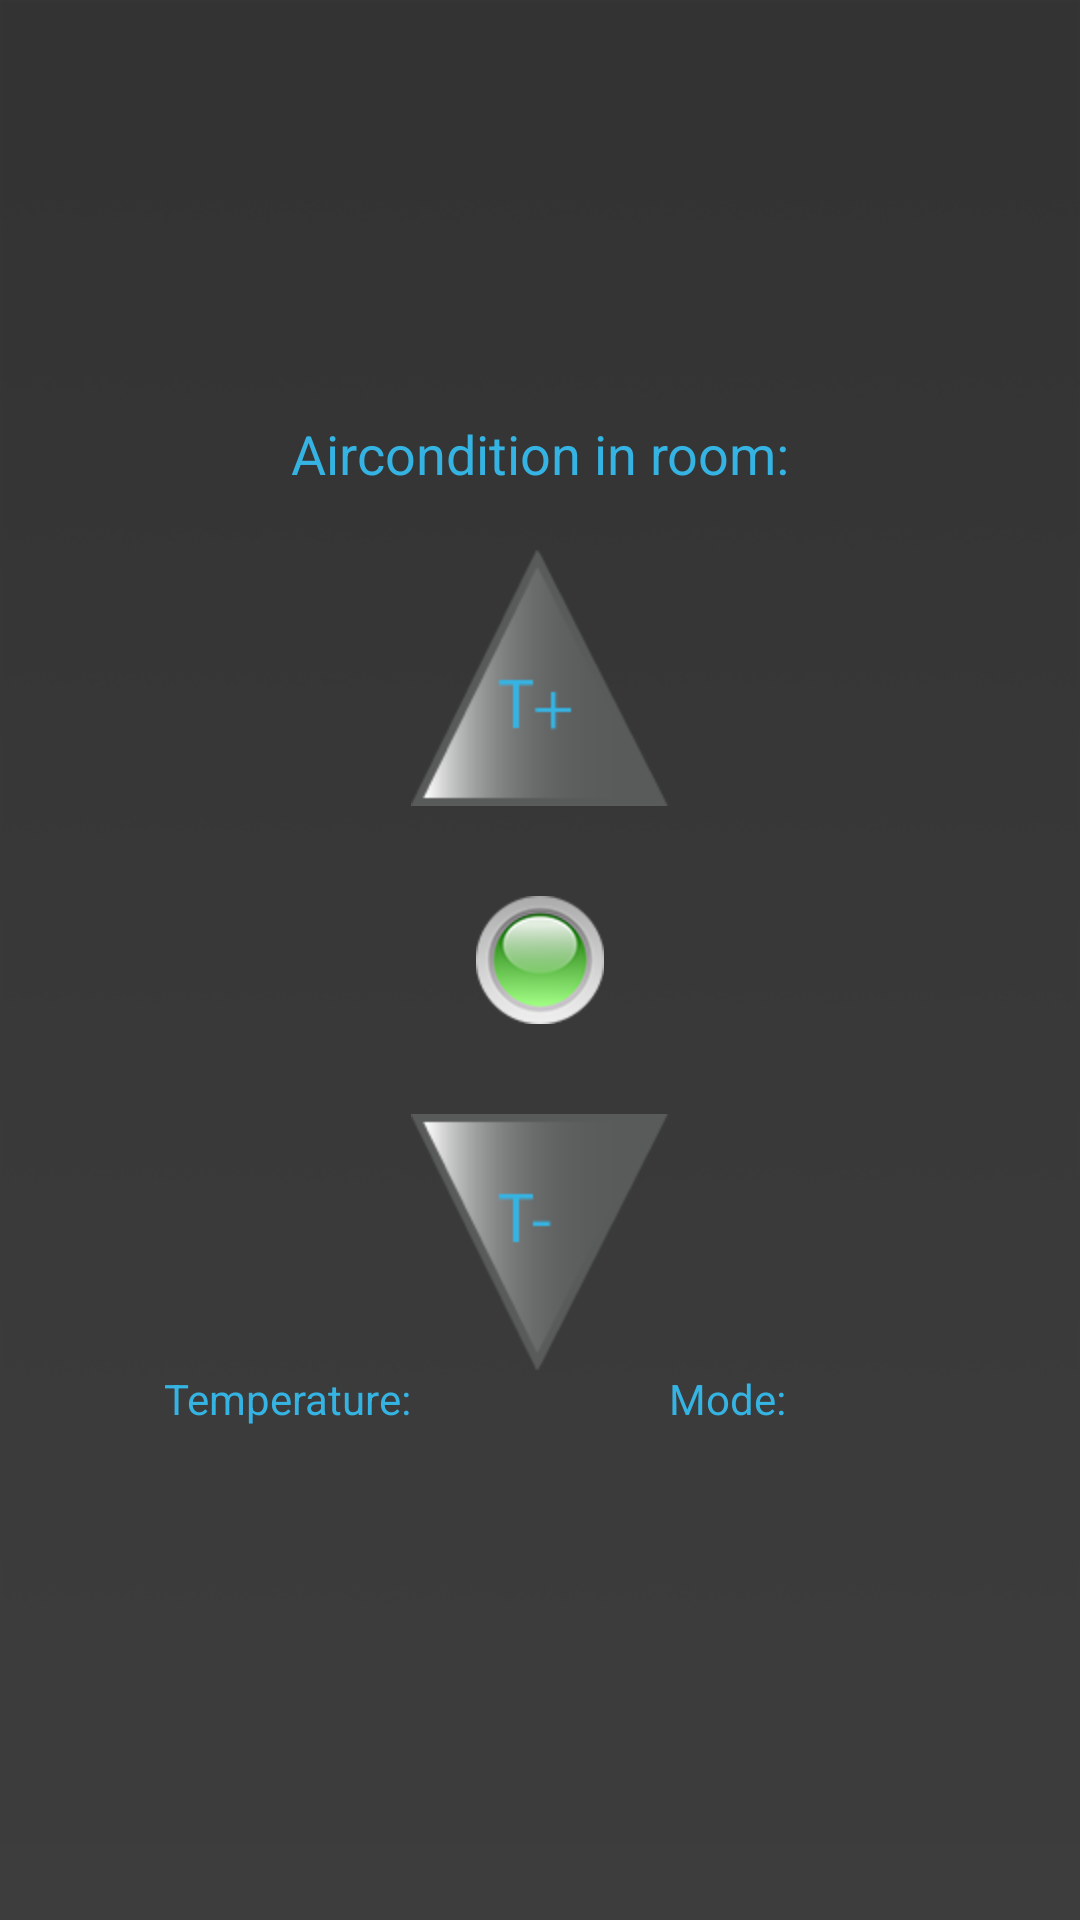

Named icons in this screenshot (1080x1920) and their bounding boxes, (x1, y1, x2, y2):
Power button: (476, 896, 604, 1024)
Temperature button up: (411, 552, 667, 806)
